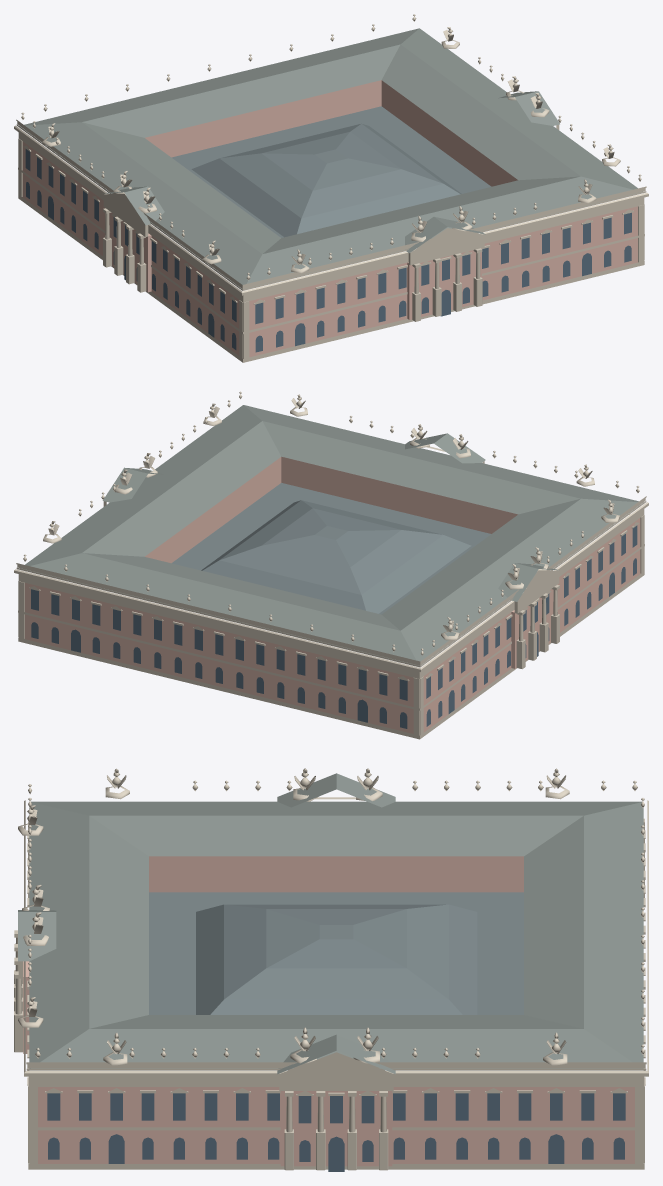
File: berlin-zeughaus.glb
3 views of the same model, one above another, from view 1: azimuth 30°, elevation 25°; view 2: azimuth 150°, elevation 25°; view 3: azimuth 270°, elevation 25° (orthographic). The views are drawn at different scales.
Visible parts, largest first — view 1: Zeughaus; view 2: Zeughaus; view 3: Zeughaus.
Boxes of the visible parts, x1,y1,x2,y2 form: Zeughaus: [14, 14, 648, 362]; Zeughaus: [14, 391, 648, 739]; Zeughaus: [14, 768, 648, 1171].
Size of the model in its own units: 99.2 by 22.54 by 94.8.
